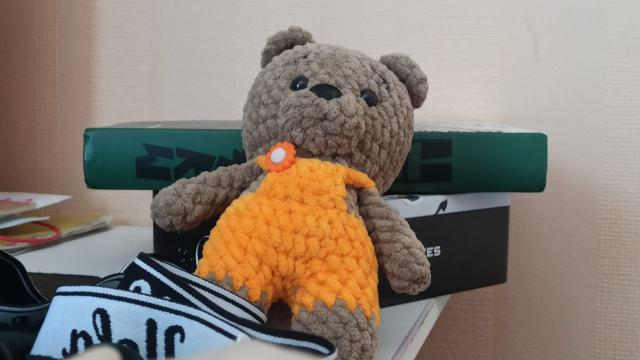book-s-spine: (83, 128, 547, 192)
